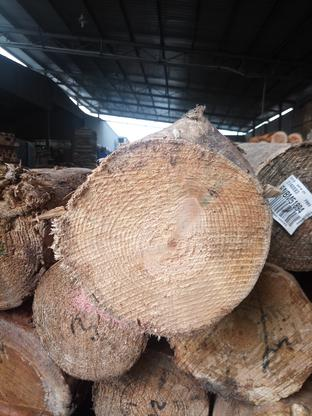mood: (58, 139, 271, 332)
